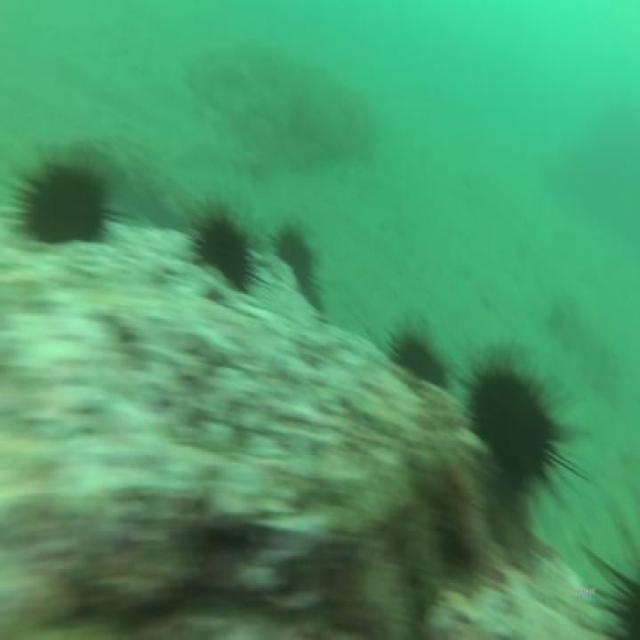echinus: (465, 352, 558, 526), (13, 158, 113, 251), (191, 206, 253, 297), (270, 215, 324, 300), (390, 330, 448, 397)
